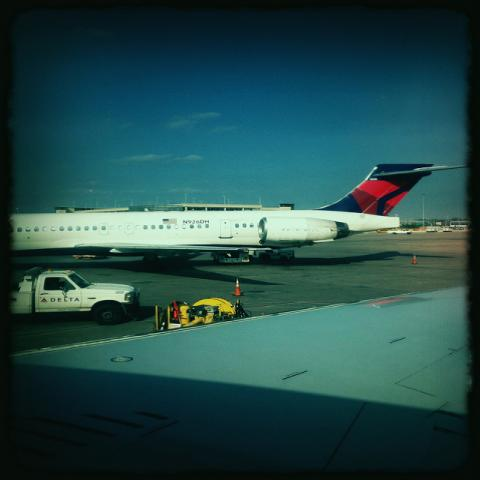truck: (10, 266, 143, 326), (386, 228, 410, 234), (426, 226, 438, 232)
